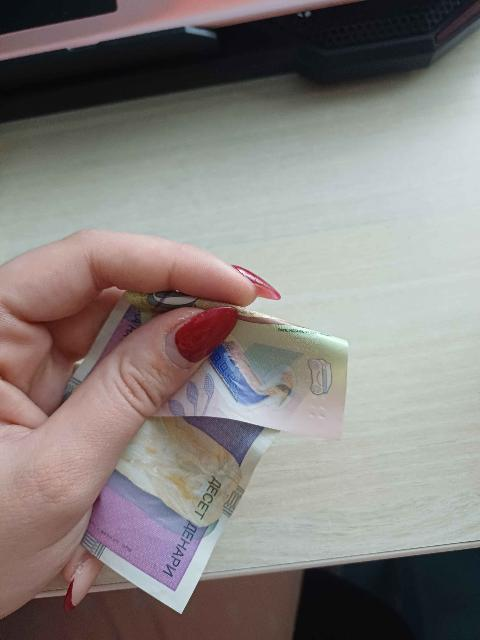note: (90, 310, 352, 604)
